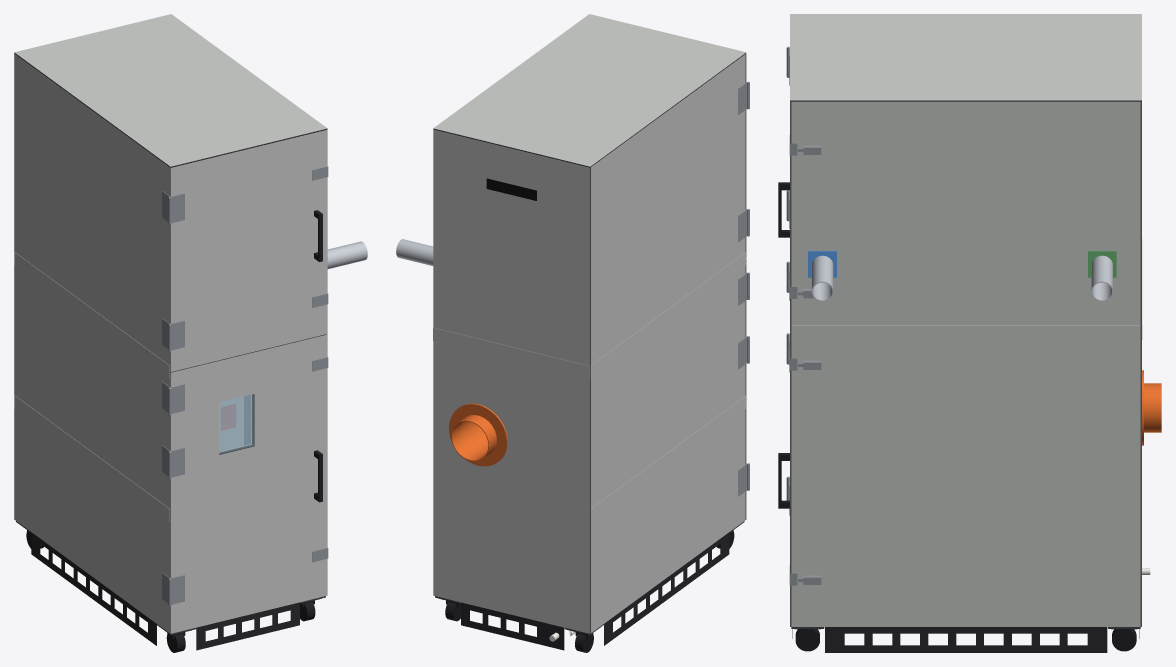
File: SilentRackAC.glb
The picture shows the model from 3 angles, left to right: view 1: azimuth 30°, elevation 25°; view 2: azimuth 150°, elevation 25°; view 3: azimuth 270°, elevation 25°; orthographic projection. The views are drawn at different scales.
Visible parts, largest first — view 1: Door lower (AC bay), Door upper (rack), Side panel left 3, Top panel, Side panel left 2, Side panel left 1, Skirt left, Joint strip left 2, Joint strip left 1, Window pane outer, Skirt front, Window pane inner (+7 smaller); view 2: Rear panel 1, Rear panel 2, Side panel left 3, Top panel, Side panel left 2, Side panel left 1, Exhaust wall spigot, Skirt left, Joint strip rear 1, Joint strip left 1, Joint strip left 2, Skirt rear (+3 smaller); view 3: Side panel right 3, Side panel right 2, Side panel right 1, Top panel, Joint strip right 1, Skirt right, Joint strip right 2, Exhaust wall spigot, Rear panel MLV, Office supply duct (flex 60), Office return duct (flex 60), Top panel MLV.
Boxes of the visible parts, <box> form: Door lower (AC bay): <box>170,334,327,633</box>; Door upper (rack): <box>170,130,327,371</box>; Side panel left 3: <box>15,54,169,365</box>; Top panel: <box>14,14,327,166</box>; Side panel left 2: <box>15,266,169,508</box>; Side panel left 1: <box>15,409,169,633</box>; Skirt left: <box>31,532,156,645</box>; Joint strip left 2: <box>14,252,169,378</box>; Joint strip left 1: <box>14,396,169,521</box>; Window pane outer: <box>219,394,254,454</box>; Skirt front: <box>196,602,299,650</box>; Window pane inner: <box>219,395,251,451</box>; Rear panel 1: <box>433,341,590,633</box>; Rear panel 2: <box>433,129,590,365</box>; Side panel left 3: <box>591,54,745,364</box>; Top panel: <box>433,14,745,166</box>; Side panel left 2: <box>591,266,745,508</box>; Side panel left 1: <box>591,409,745,632</box>; Exhaust wall spigot: <box>449,403,507,466</box>; Skirt left: <box>604,532,729,645</box>; Joint strip rear 1: <box>433,327,590,379</box>; Joint strip left 1: <box>591,395,745,521</box>; Joint strip left 2: <box>591,252,745,378</box>; Skirt rear: <box>461,602,564,650</box>; Side panel right 3: <box>791,101,1140,324</box>; Side panel right 2: <box>791,340,1140,486</box>; Side panel right 1: <box>791,501,1140,626</box>; Top panel: <box>790,14,1141,100</box>; Joint strip right 1: <box>791,486,1140,501</box>; Skirt right: <box>825,627,1107,652</box>; Joint strip right 2: <box>791,325,1140,339</box>; Exhaust wall spigot: <box>1142,370,1161,445</box>; Rear panel MLV: <box>1140,101,1141,626</box>; Office supply duct (flex 60): <box>811,255,833,301</box>; Office return duct (flex 60): <box>1091,255,1112,301</box>; Top panel MLV: <box>790,100,1141,101</box>.
Bounding box in the file's own units: 830 × 1870 × 1168.
